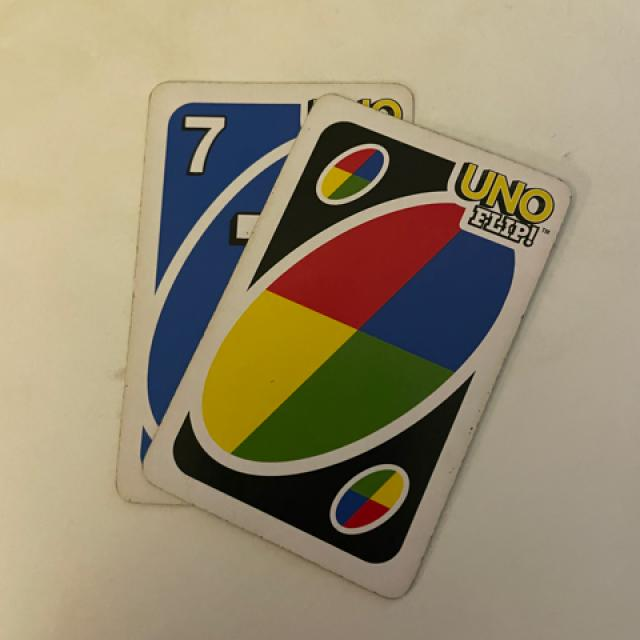lblue-7: (160, 95, 249, 193)
lcolor-40: (312, 123, 393, 208)
